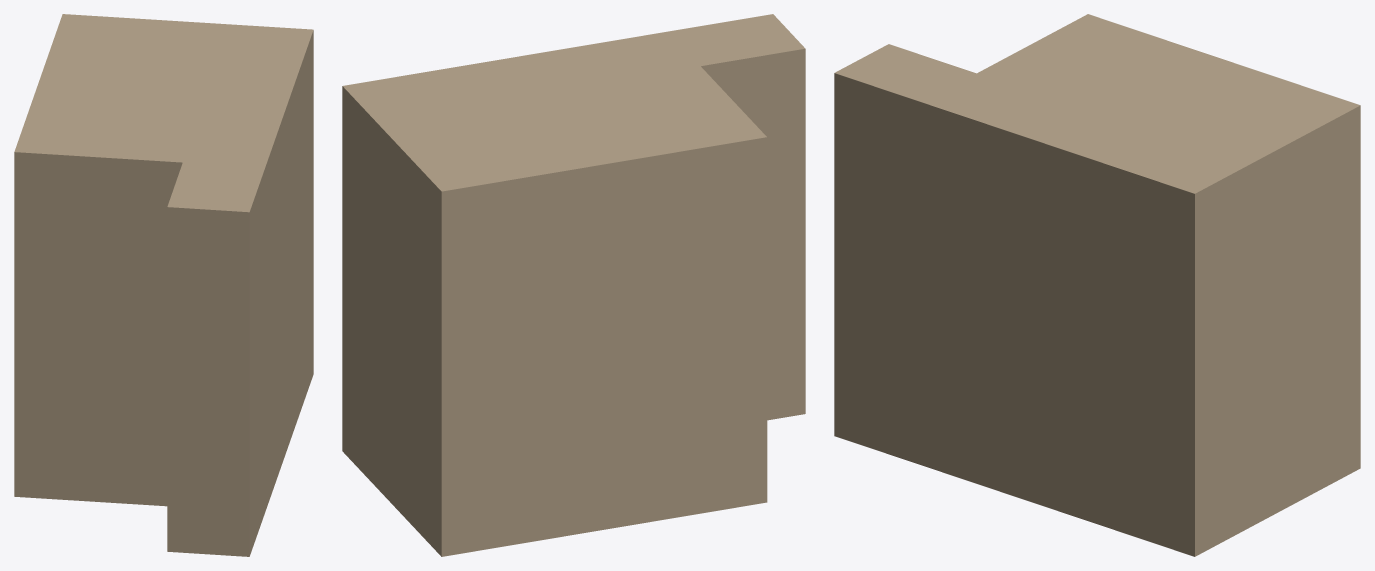
Rendered from bld_99549202.dae.
3 views of the same model, side by side, from view 1: azimuth 30°, elevation 25°; view 2: azimuth 150°, elevation 25°; view 3: azimuth 270°, elevation 25° (orthographic). The views are drawn at different scales.
Visible parts, largest first — view 1: bld_99549202; view 2: bld_99549202; view 3: bld_99549202.
Part boxes in pixels (x1,y1,x2,y2): bld_99549202: [14, 14, 313, 556]; bld_99549202: [342, 14, 805, 556]; bld_99549202: [834, 14, 1360, 556].
Bounding box in the file's own units: 8.5 × 10.51 × 8.
